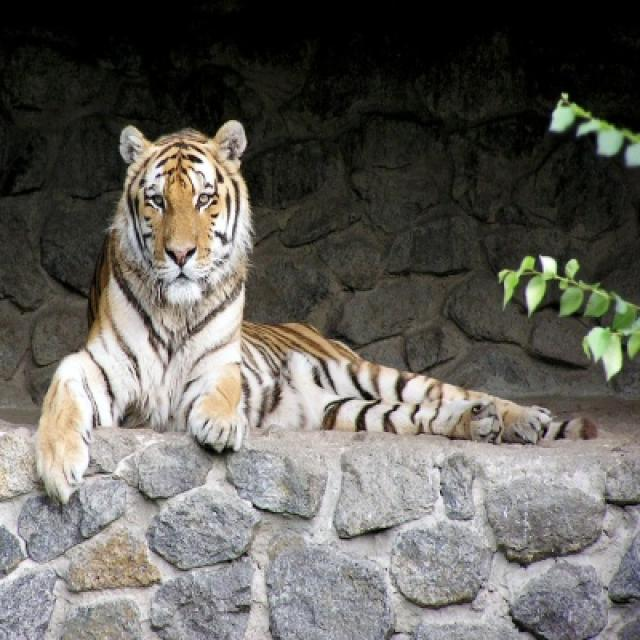Tiger: (33, 122, 604, 505)
